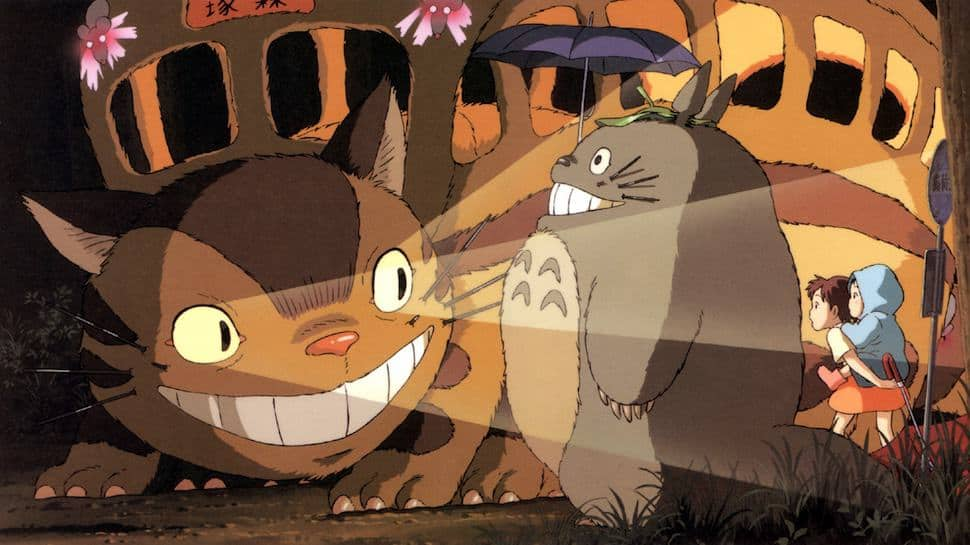Totoro: (498, 56, 908, 530)
